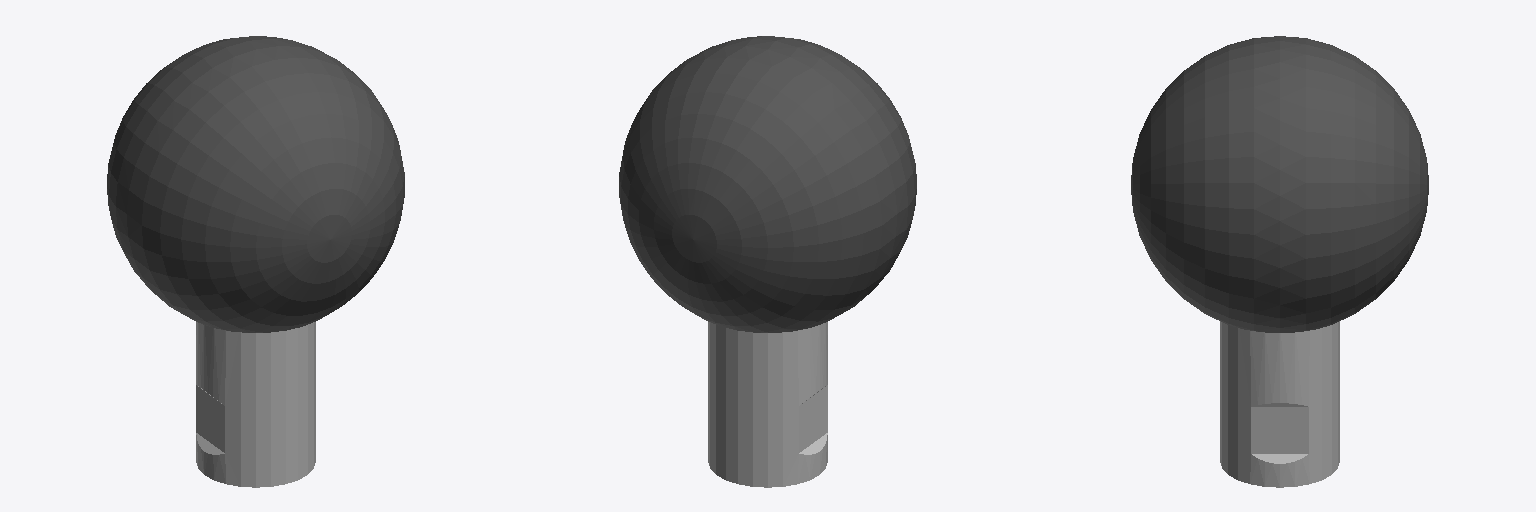
Rendered from ganter_gn_319_5-40-m10-b.obj.
The picture shows the model from 3 angles: view 1: azimuth 30°, elevation 25°; view 2: azimuth 150°, elevation 25°; view 3: azimuth 270°, elevation 25°; orthographic projection.
Parts seen in each view (by area): view 1: ganter_gn_319_5-40-m10-b_1; view 2: ganter_gn_319_5-40-m10-b_1; view 3: ganter_gn_319_5-40-m10-b_1.
Boxes of the visible parts, x1=… form: ganter_gn_319_5-40-m10-b_1: x1=107, y1=36, x2=404, y2=487; ganter_gn_319_5-40-m10-b_1: x1=619, y1=36, x2=916, y2=487; ganter_gn_319_5-40-m10-b_1: x1=1131, y1=36, x2=1428, y2=487.
Size of the model in its own units: 39.99 by 61 by 40.